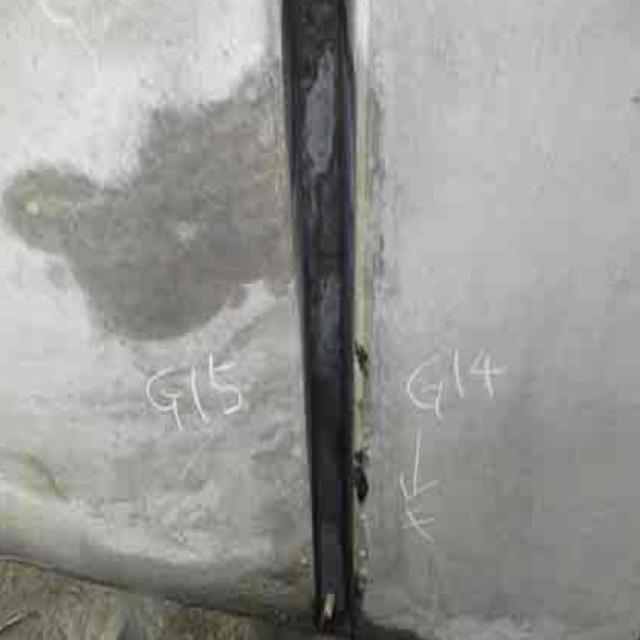leakage: (17, 108, 299, 332)
